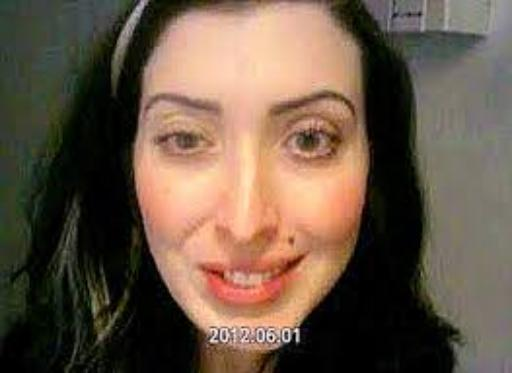left_eye: (280, 130, 339, 159)
left_lip_corner: (283, 252, 315, 271)
right_eye: (160, 131, 218, 160)
right_lip_corner: (191, 259, 219, 280)
